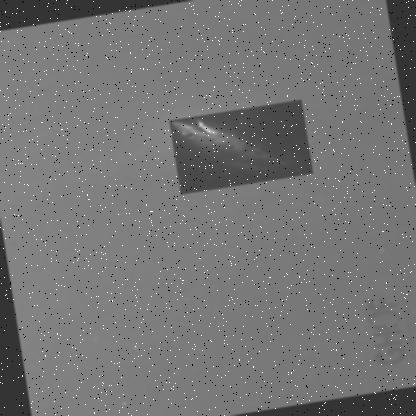mako-shark: (167, 98, 312, 194)
